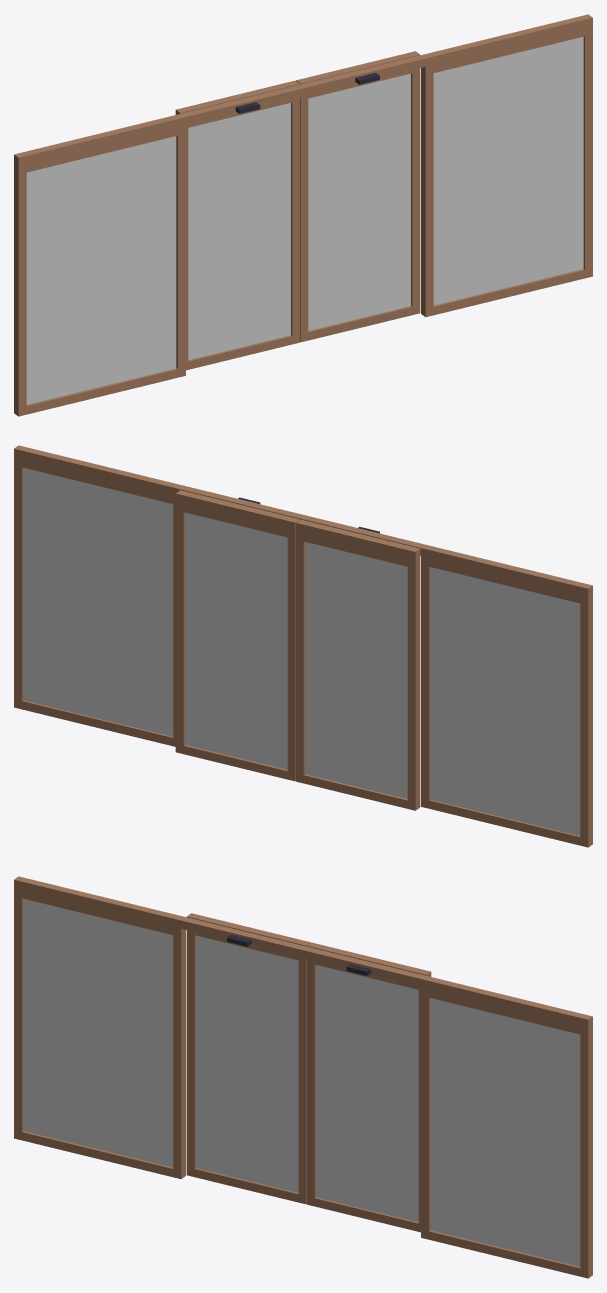
File: slidingDoor.fbx
3 renders of one model, top to bottom at view 1: azimuth 30°, elevation 25°; view 2: azimuth 150°, elevation 25°; view 3: azimuth 330°, elevation 25°, orthographic.
Visible parts, largest first — view 1: slidingDoor_wall, slidingDoor_doorR, slidingDoor_doorL; view 2: slidingDoor_wall, slidingDoor_doorL, slidingDoor_doorR; view 3: slidingDoor_wall, slidingDoor_doorL, slidingDoor_doorR.
Part boxes in pixels (x1,y1,x2,y2): slidingDoor_wall: (14, 14, 592, 416); slidingDoor_doorR: (296, 51, 420, 342); slidingDoor_doorL: (175, 80, 299, 370); slidingDoor_wall: (14, 445, 592, 847); slidingDoor_doorL: (296, 519, 420, 810); slidingDoor_doorR: (175, 490, 299, 781); slidingDoor_wall: (14, 876, 592, 1278); slidingDoor_doorL: (186, 913, 310, 1204); slidingDoor_doorR: (307, 942, 431, 1232).
Bounding box in the file's own units: 720 × 30.67 × 310.
